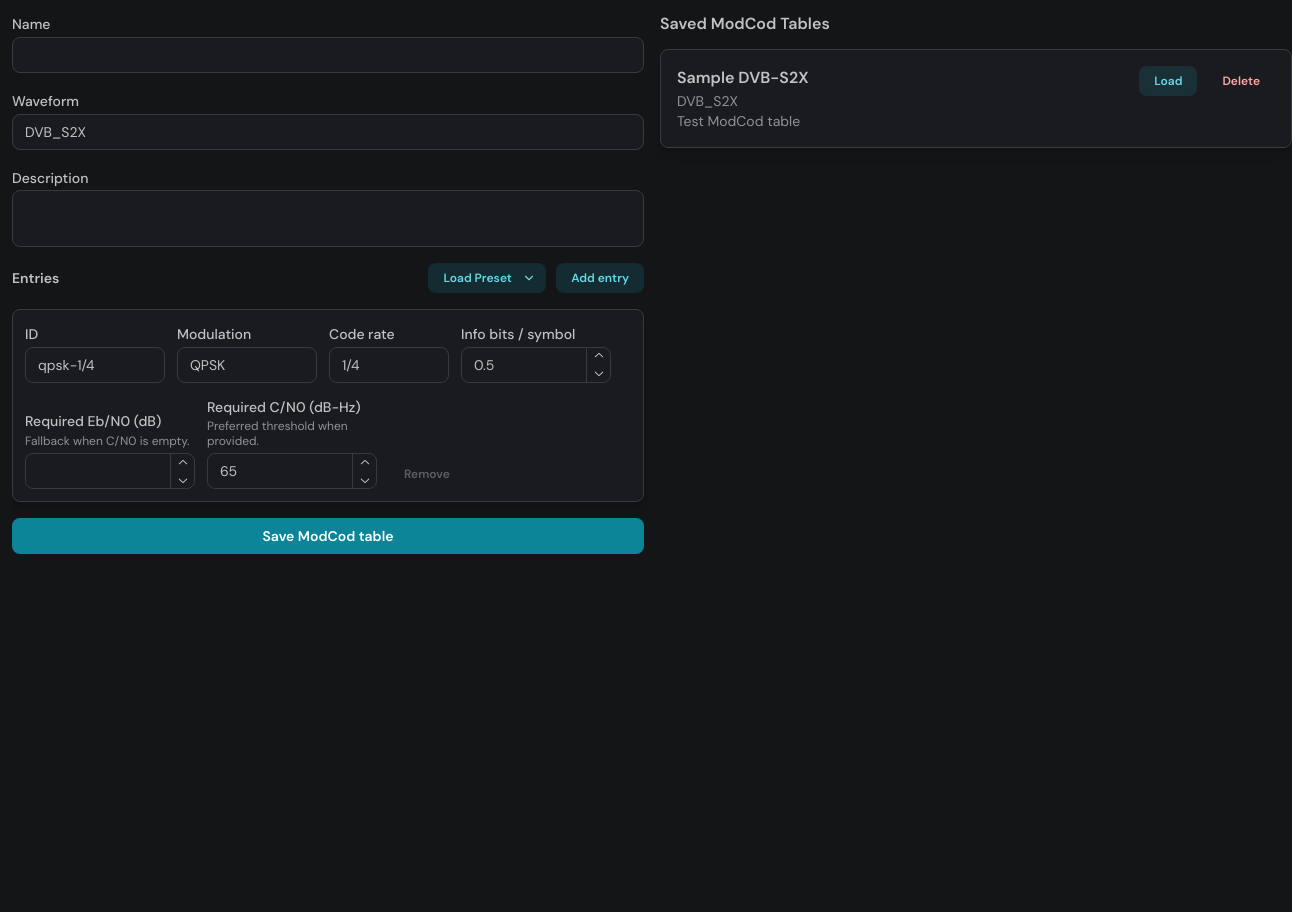
ModcodManager › adds a new entry when Add entry is clicked
Click the button "Add entry".
click(600, 278)  # box [556, 263, 644, 293]
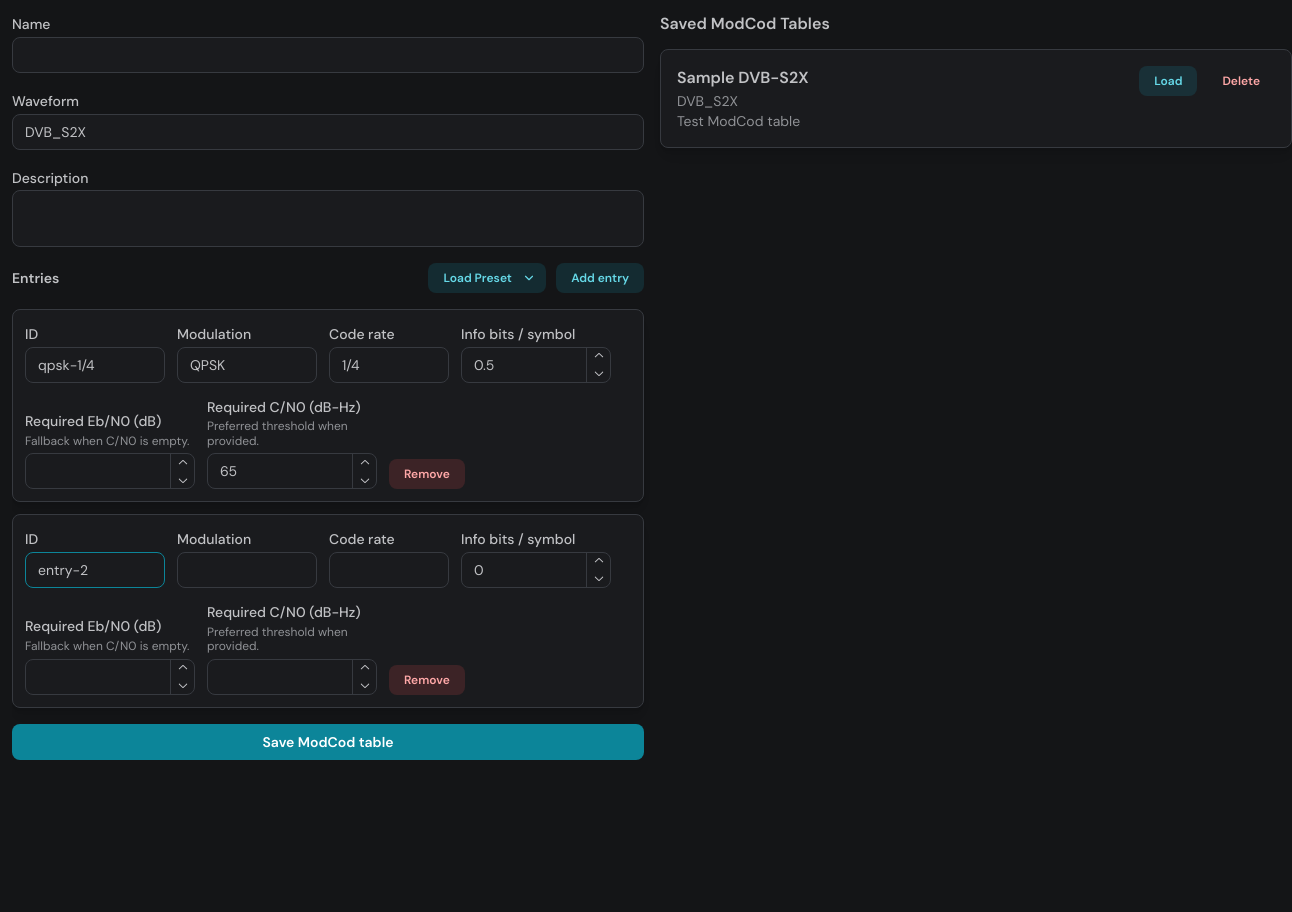
Expected: the number of buttons "Remove" is 2, [389, 459, 465, 489]; [389, 664, 465, 694]
